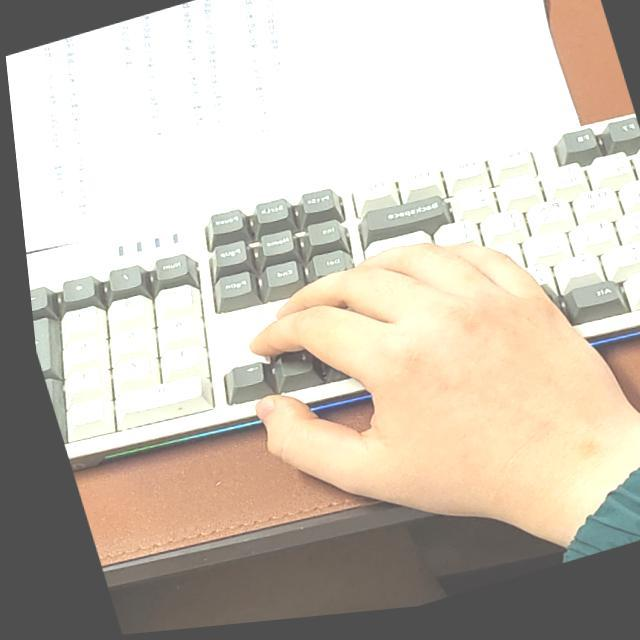keyboard-with-hands: (25, 111, 640, 456)
